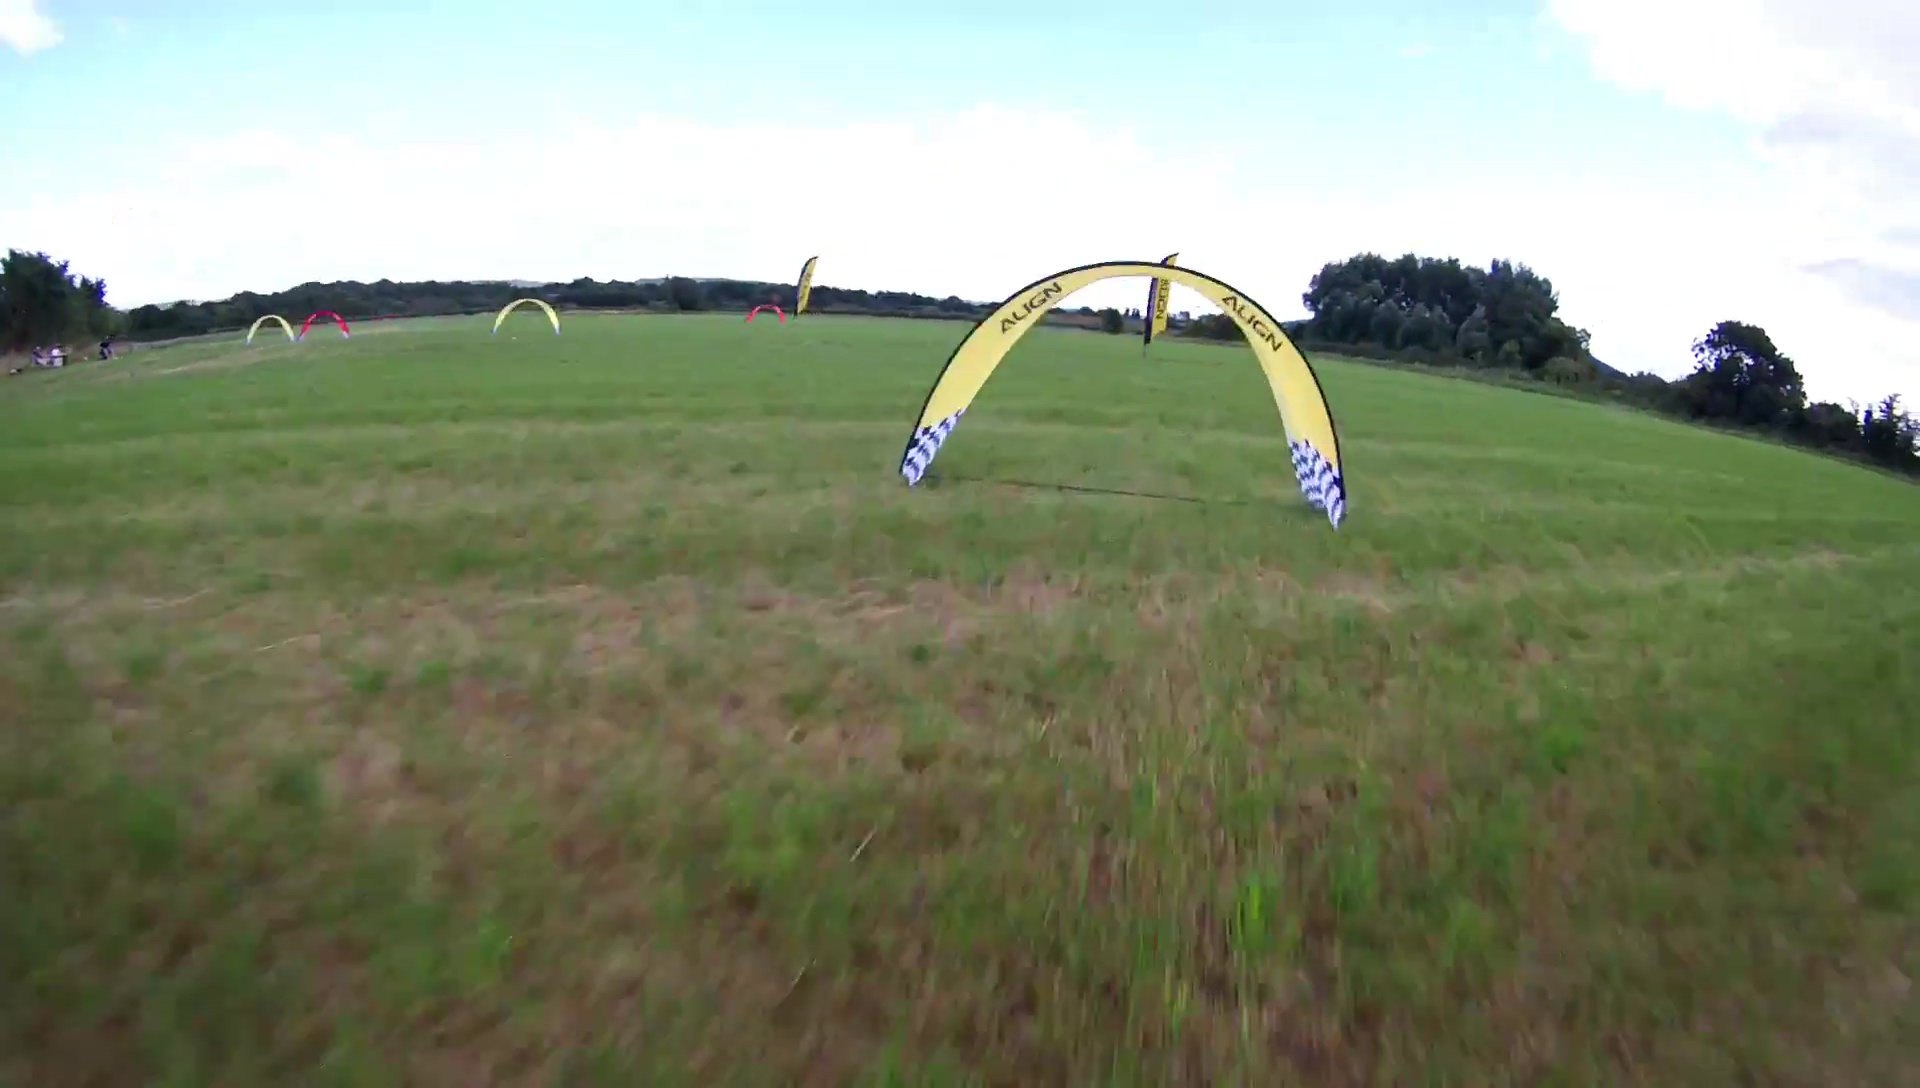gate: (895, 258, 1348, 528), (491, 295, 564, 335), (297, 310, 352, 336), (247, 314, 299, 342), (744, 301, 789, 327)
